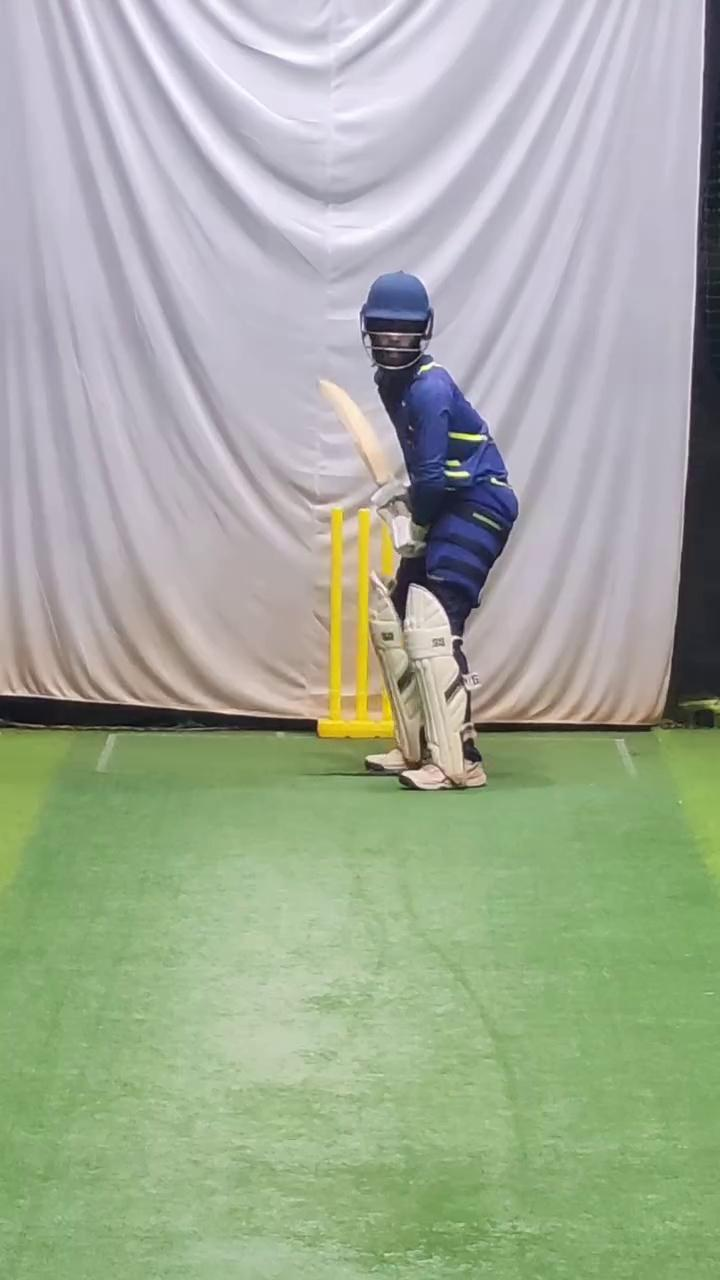bat: (315, 368, 392, 495)
